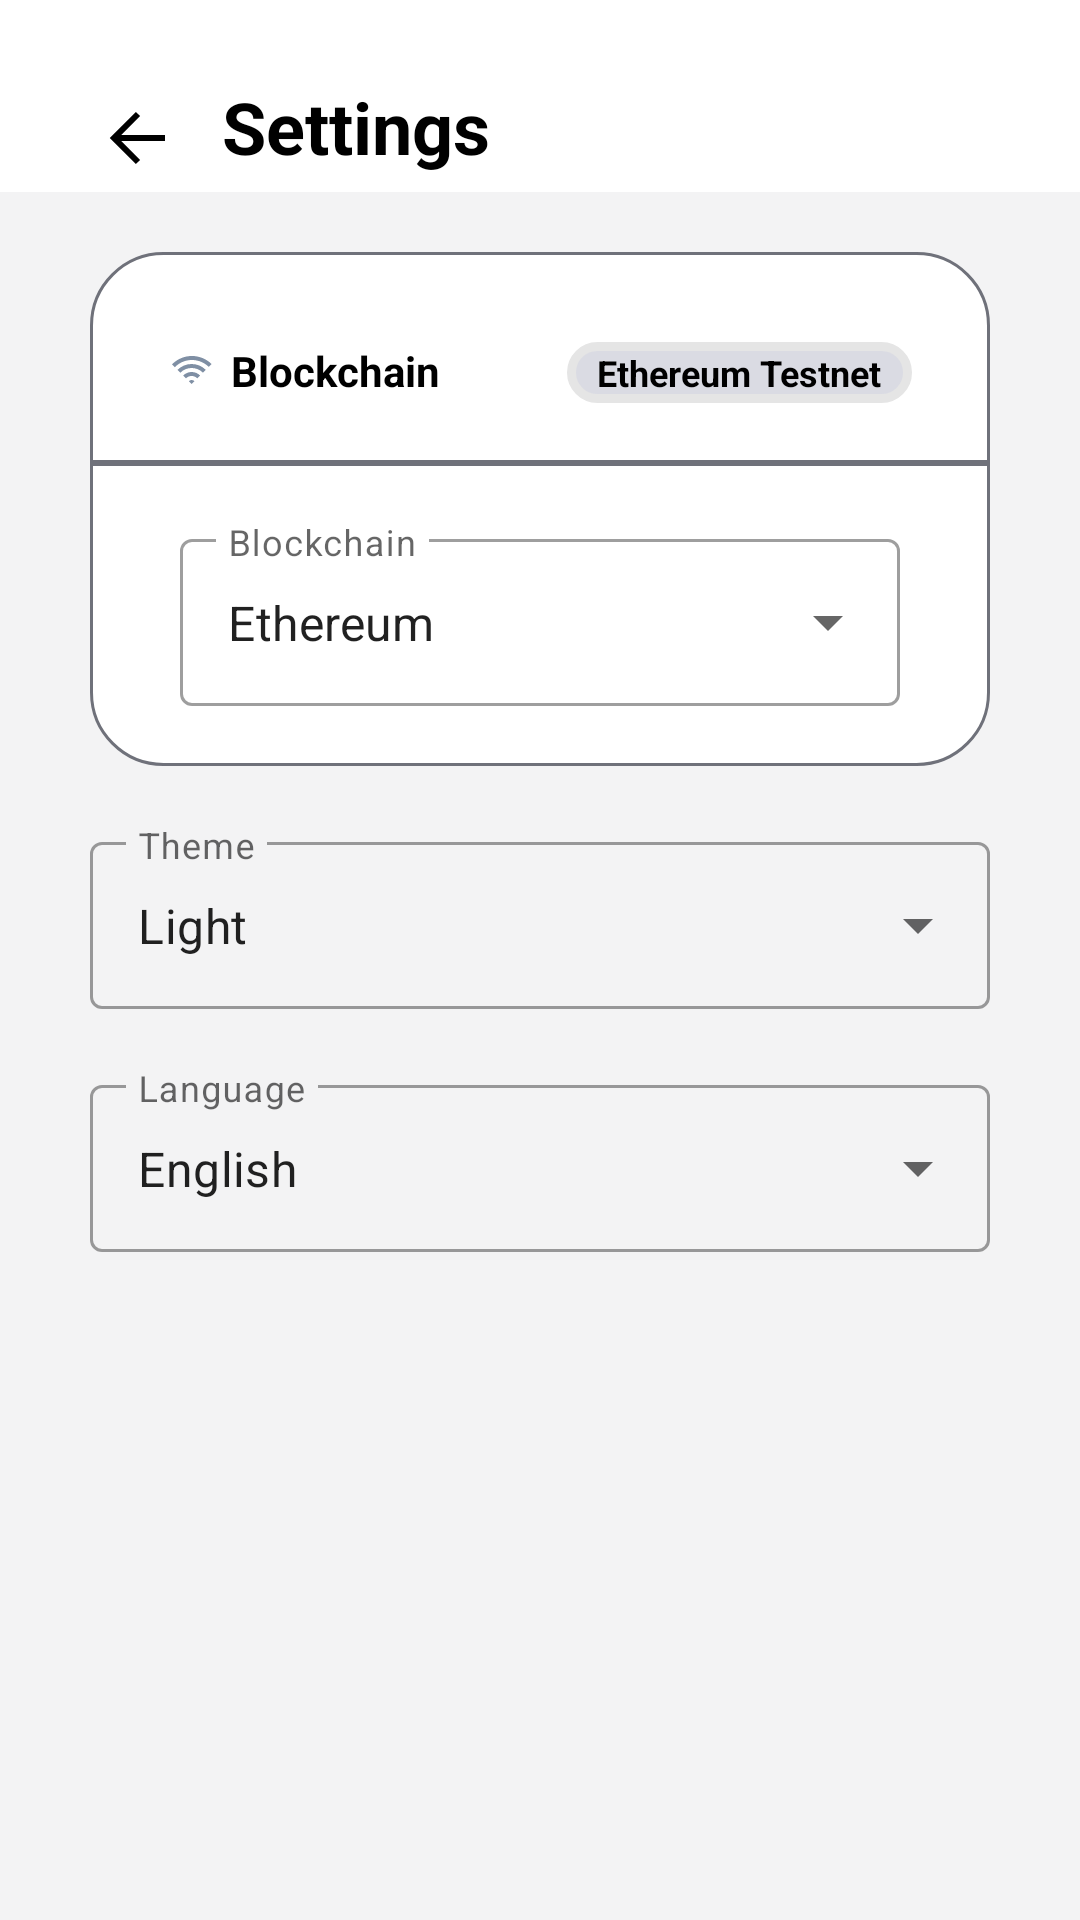

Locate icon controls on the screen. Image size 1080*1920, boxes as (x1, y1, x2, y2).
arrow left: (110, 112, 165, 164)
